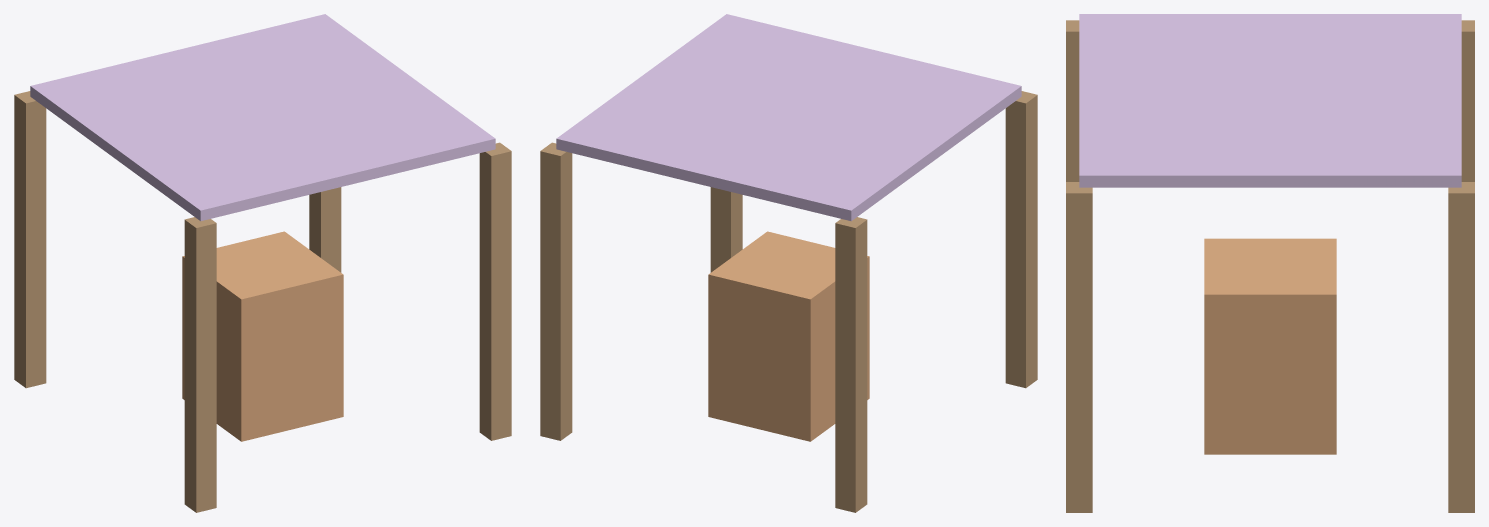
The model's file is Prop_Water_AMF_RainCatcher_V8.glb.
3 renders of one model, left to right at view 1: azimuth 30°, elevation 25°; view 2: azimuth 150°, elevation 25°; view 3: azimuth 270°, elevation 25°, orthographic. The views are drawn at different scales.
Visible parts, largest first — view 1: Prop_Water_AMF_RainCatcher_V8; view 2: Prop_Water_AMF_RainCatcher_V8; view 3: Prop_Water_AMF_RainCatcher_V8.
Boxes of the visible parts, x1,y1,x2,y2 form: Prop_Water_AMF_RainCatcher_V8: (14, 14, 511, 512); Prop_Water_AMF_RainCatcher_V8: (540, 14, 1037, 512); Prop_Water_AMF_RainCatcher_V8: (1066, 14, 1474, 512).
Bounding box in the file's own units: 1.85 × 1.66 × 1.85.
